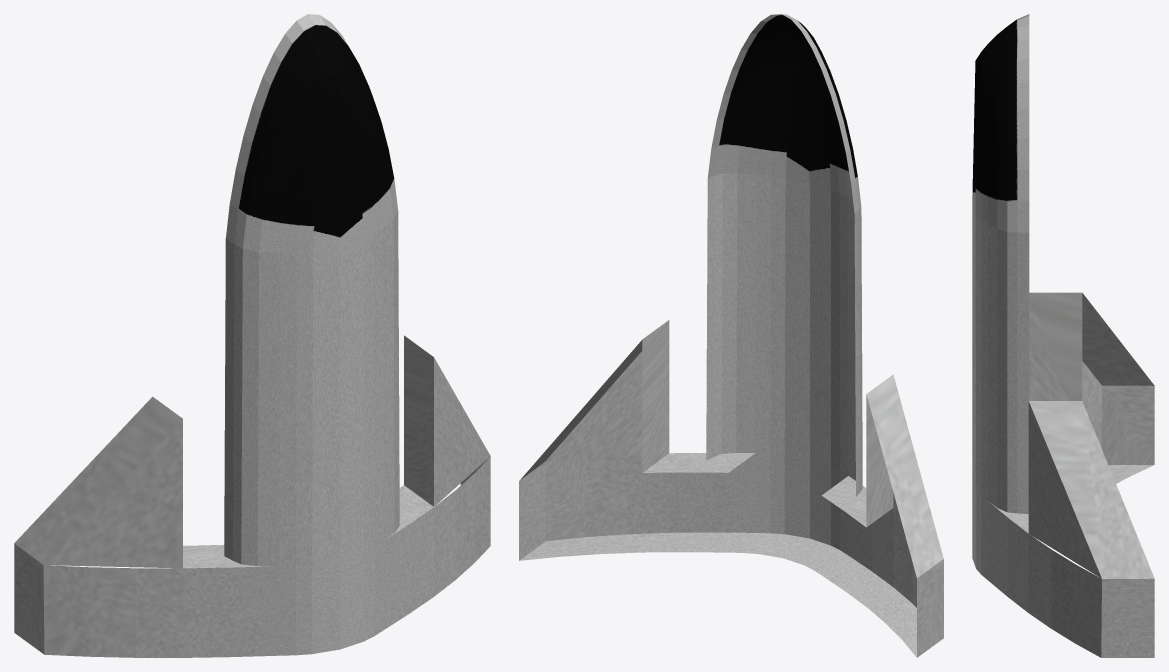
Rendered from spaceship_4.glb.
3 views of the same model, side by side, from view 1: azimuth 30°, elevation 25°; view 2: azimuth 150°, elevation 25°; view 3: azimuth 270°, elevation 25° (orthographic). The views are drawn at different scales.
Visible parts, largest first — view 1: BezierCircle; view 2: BezierCircle; view 3: BezierCircle.
Part boxes in pixels (<box>): BezierCircle: <box>14,14,490,657</box>; BezierCircle: <box>519,14,943,657</box>; BezierCircle: <box>972,14,1154,657</box>.
Size of the model in its own units: 6.09 by 8.01 by 2.43.
Materials: 1 (1 with a texture image).
